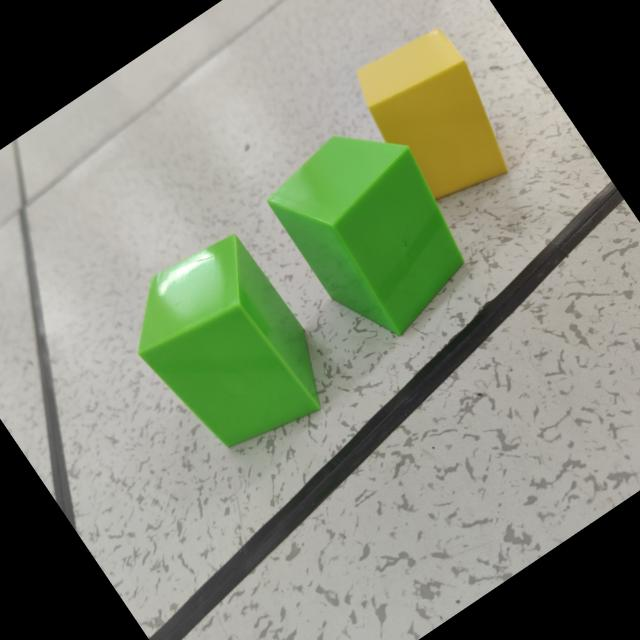green: (138, 234, 322, 450), (268, 136, 466, 336)
yellow: (358, 30, 510, 201)
